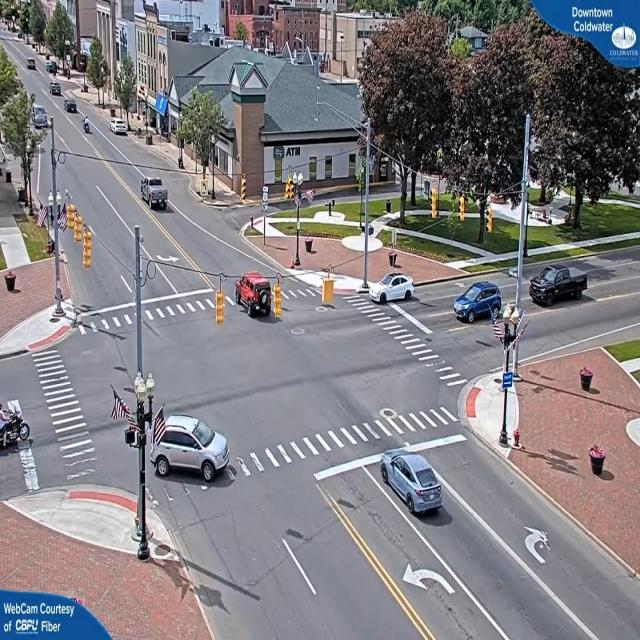car: (148, 414, 231, 482), (381, 449, 446, 518), (529, 266, 587, 308), (454, 284, 502, 324), (370, 273, 416, 306), (141, 178, 169, 212), (111, 120, 130, 136), (64, 100, 78, 112), (51, 84, 63, 97)
motorbike: (0, 404, 30, 450)
